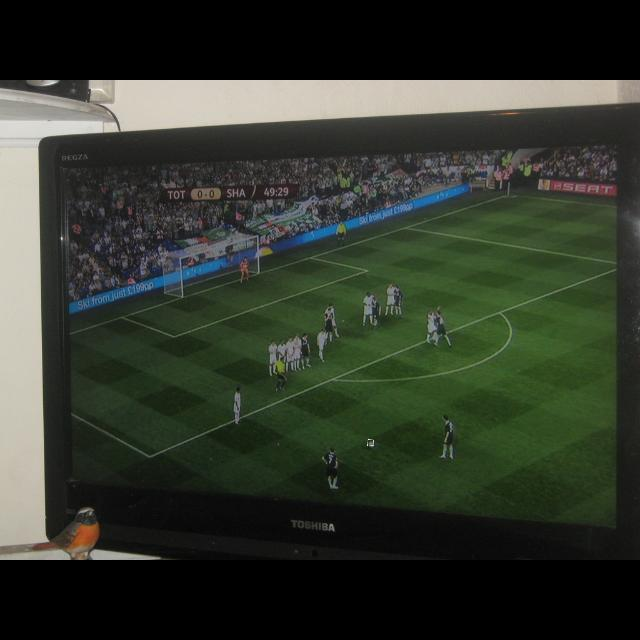Football: (368, 440, 374, 446)
